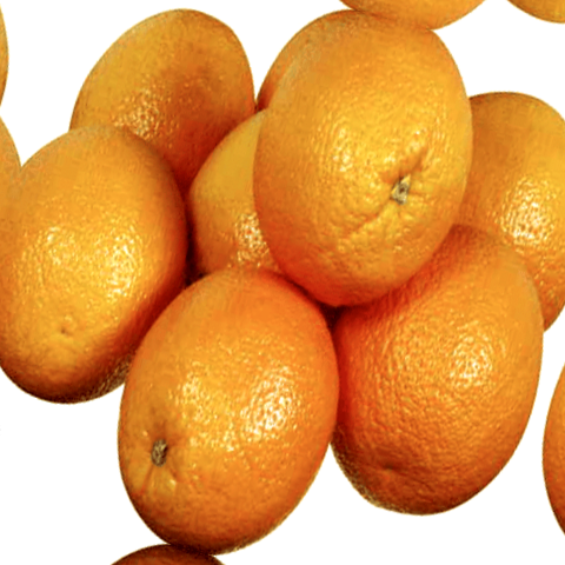orange: (280, 184, 565, 547), (74, 239, 369, 565), (219, 0, 517, 320), (0, 87, 210, 420)
